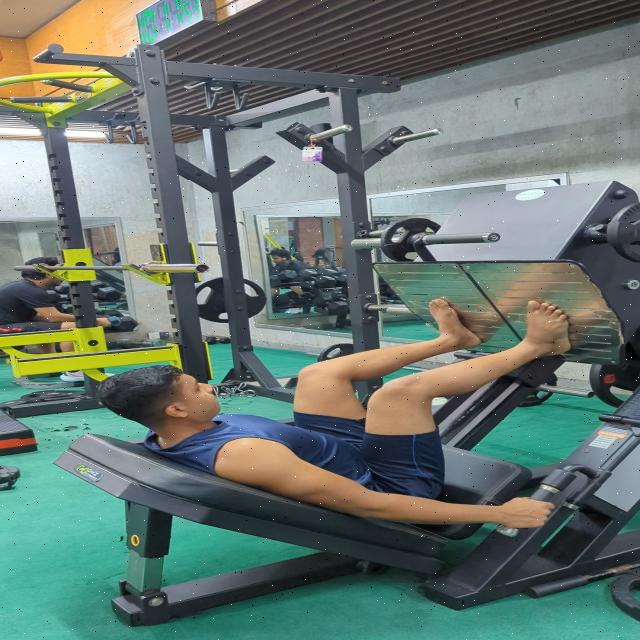Normal_LegPress: (86, 297, 598, 533)
